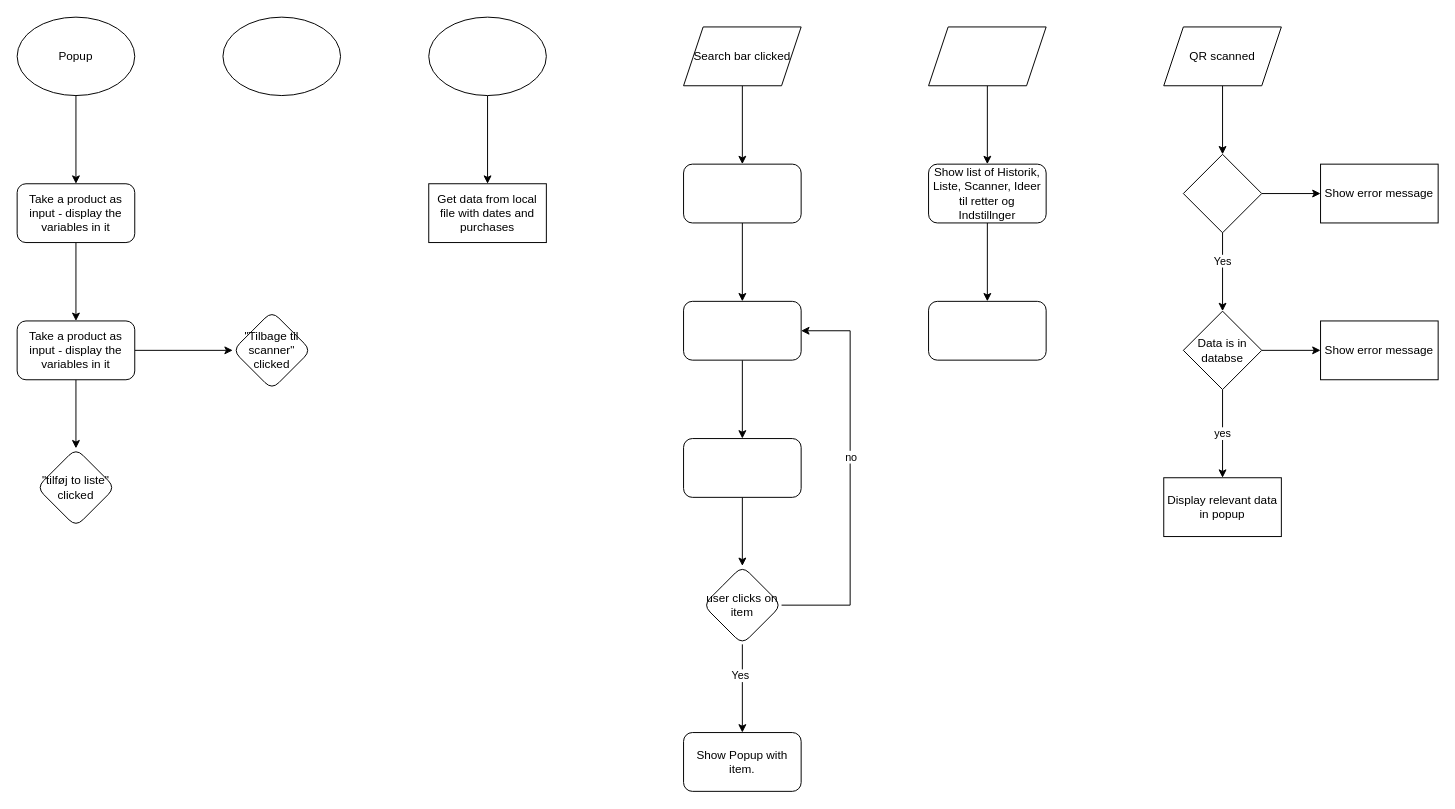
This 1455x809 diagram has some shape labels left out. Here are the shapes that lost their labels. From the top down, the centre of each, then its label:
At [281,56]: "Liste side".
At [487,56]: "Historik side".
At [987,56]: "Menu Clicked".
At [742,193]: "Open search view - and keyboard".
At [1222,193]: "Is integer".
At [742,330]: "Read written text".
At [987,330]: "Go to relevant view, if clicked".
At [742,467]: "Search in database for relevant results - and display".
